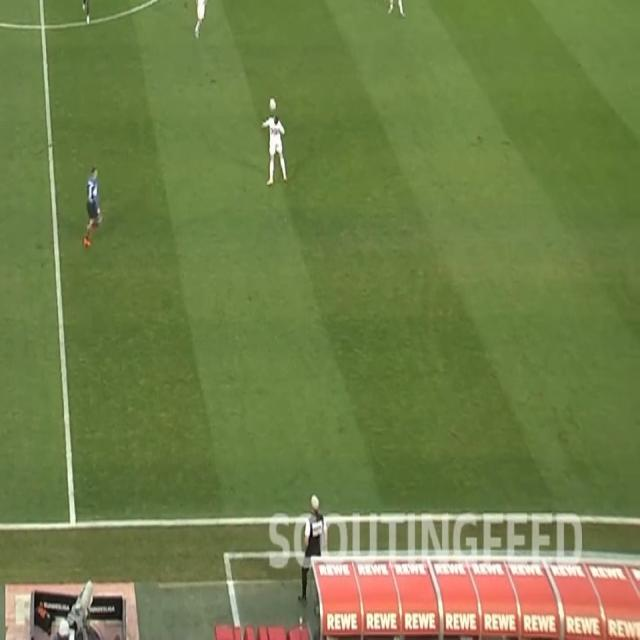ball: (268, 96, 277, 112)
